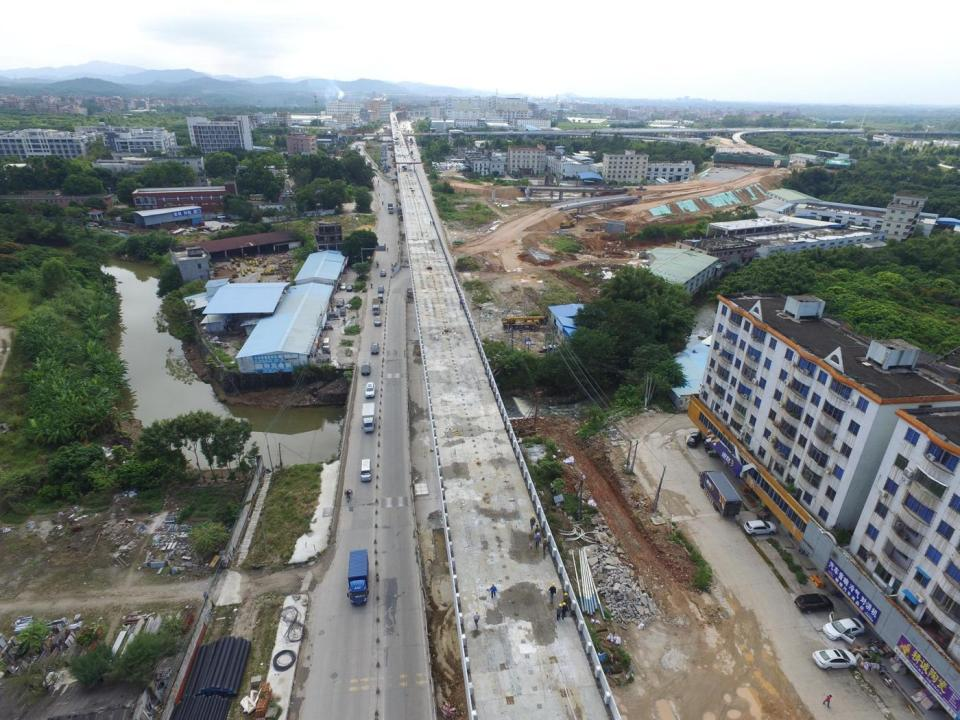car: (823, 612, 865, 644), (813, 648, 857, 669), (794, 594, 834, 614), (745, 521, 776, 536), (687, 433, 702, 446), (360, 362, 370, 377), (365, 382, 374, 397), (371, 342, 379, 355), (336, 298, 344, 308), (374, 316, 382, 326), (340, 282, 346, 290), (378, 285, 383, 293), (346, 286, 352, 292), (381, 270, 386, 277)
truck: (699, 470, 740, 517), (348, 549, 369, 605), (361, 402, 375, 433), (361, 459, 371, 482), (372, 298, 380, 314), (387, 203, 393, 214), (378, 293, 383, 303)
van: (323, 338, 330, 351), (340, 307, 346, 316)
